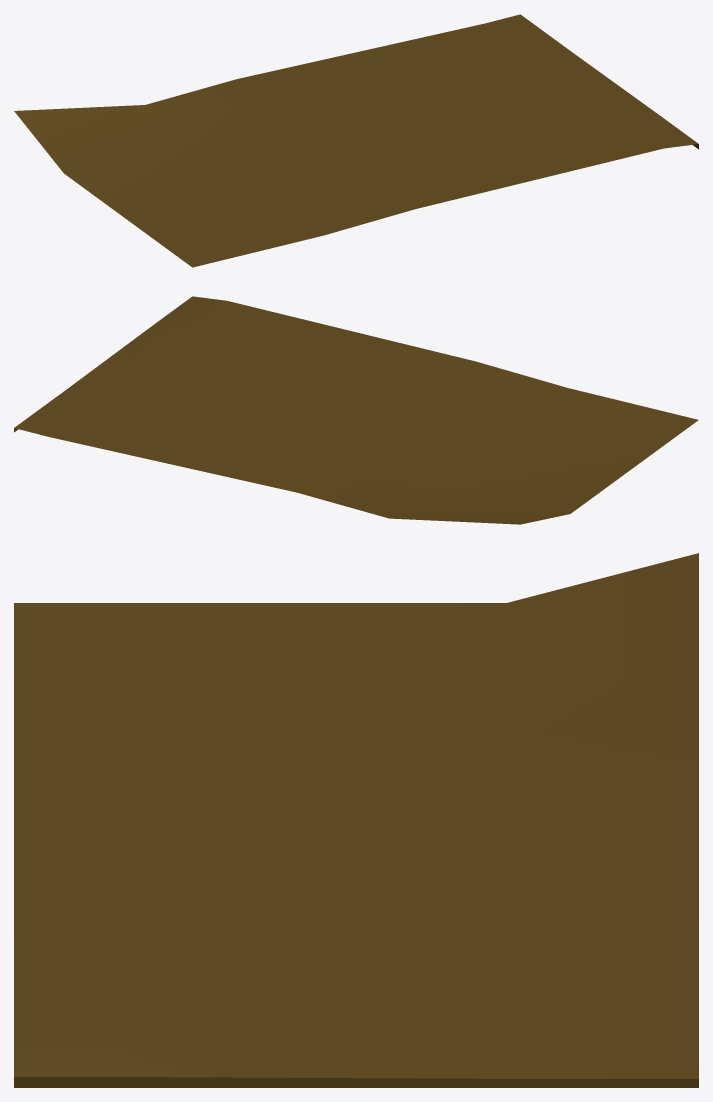
The model's file is TopGround.fbx.
3 renders of one model, top to bottom at view 1: azimuth 30°, elevation 25°; view 2: azimuth 150°, elevation 25°; view 3: azimuth 270°, elevation 25°, orthographic. The views are drawn at different scales.
Parts seen in each view (by area): view 1: TopGround; view 2: TopGround; view 3: TopGround.
Boxes of the visible parts, left/top/right/bottom form: TopGround: left=14, top=14, right=698, bottom=267; TopGround: left=14, top=296, right=698, bottom=524; TopGround: left=14, top=553, right=698, bottom=1087.
Bounding box in the file's own units: 10000 × 597 × 6105.
